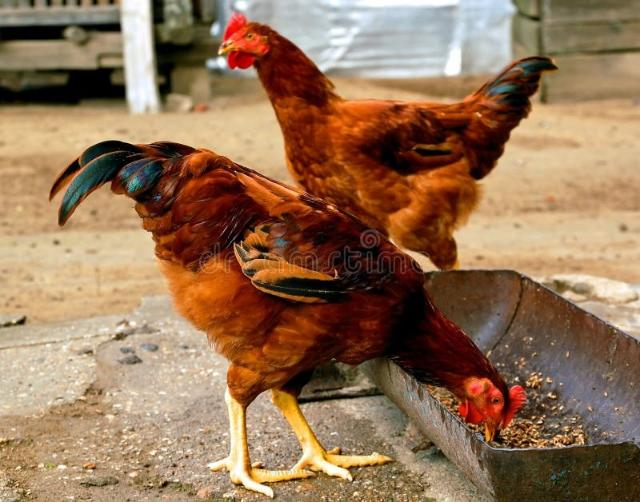Chicken: (48, 140, 530, 497), (215, 13, 557, 269)
